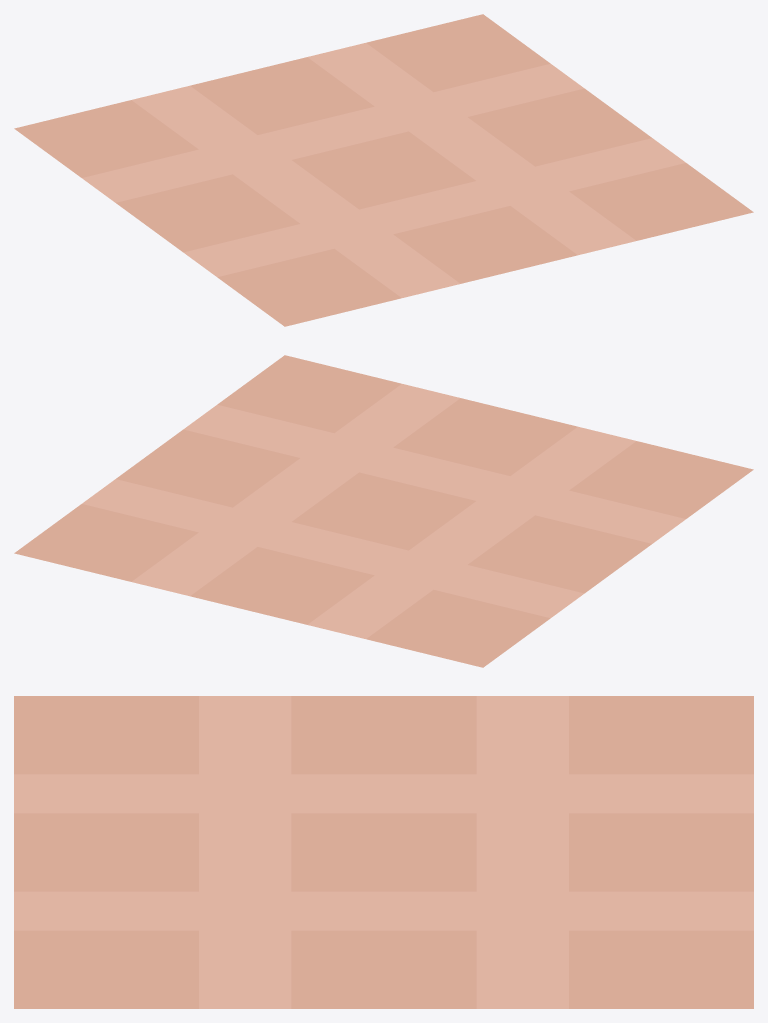
The model's file is terrain_roadCross.glb.
3 renders of one model, top to bottom at view 1: azimuth 30°, elevation 25°; view 2: azimuth 150°, elevation 25°; view 3: azimuth 270°, elevation 25°, orthographic. The views are drawn at different scales.
Parts seen in each view (by area): view 1: terrain_roadCross; view 2: terrain_roadCross; view 3: terrain_roadCross.
Part boxes in pixels (x1=…): terrain_roadCross: x1=14, y1=14, x2=753, y2=326; terrain_roadCross: x1=14, y1=355, x2=753, y2=667; terrain_roadCross: x1=14, y1=696, x2=753, y2=1008.
Size of the model in its own units: 1 by 0 by 1.
